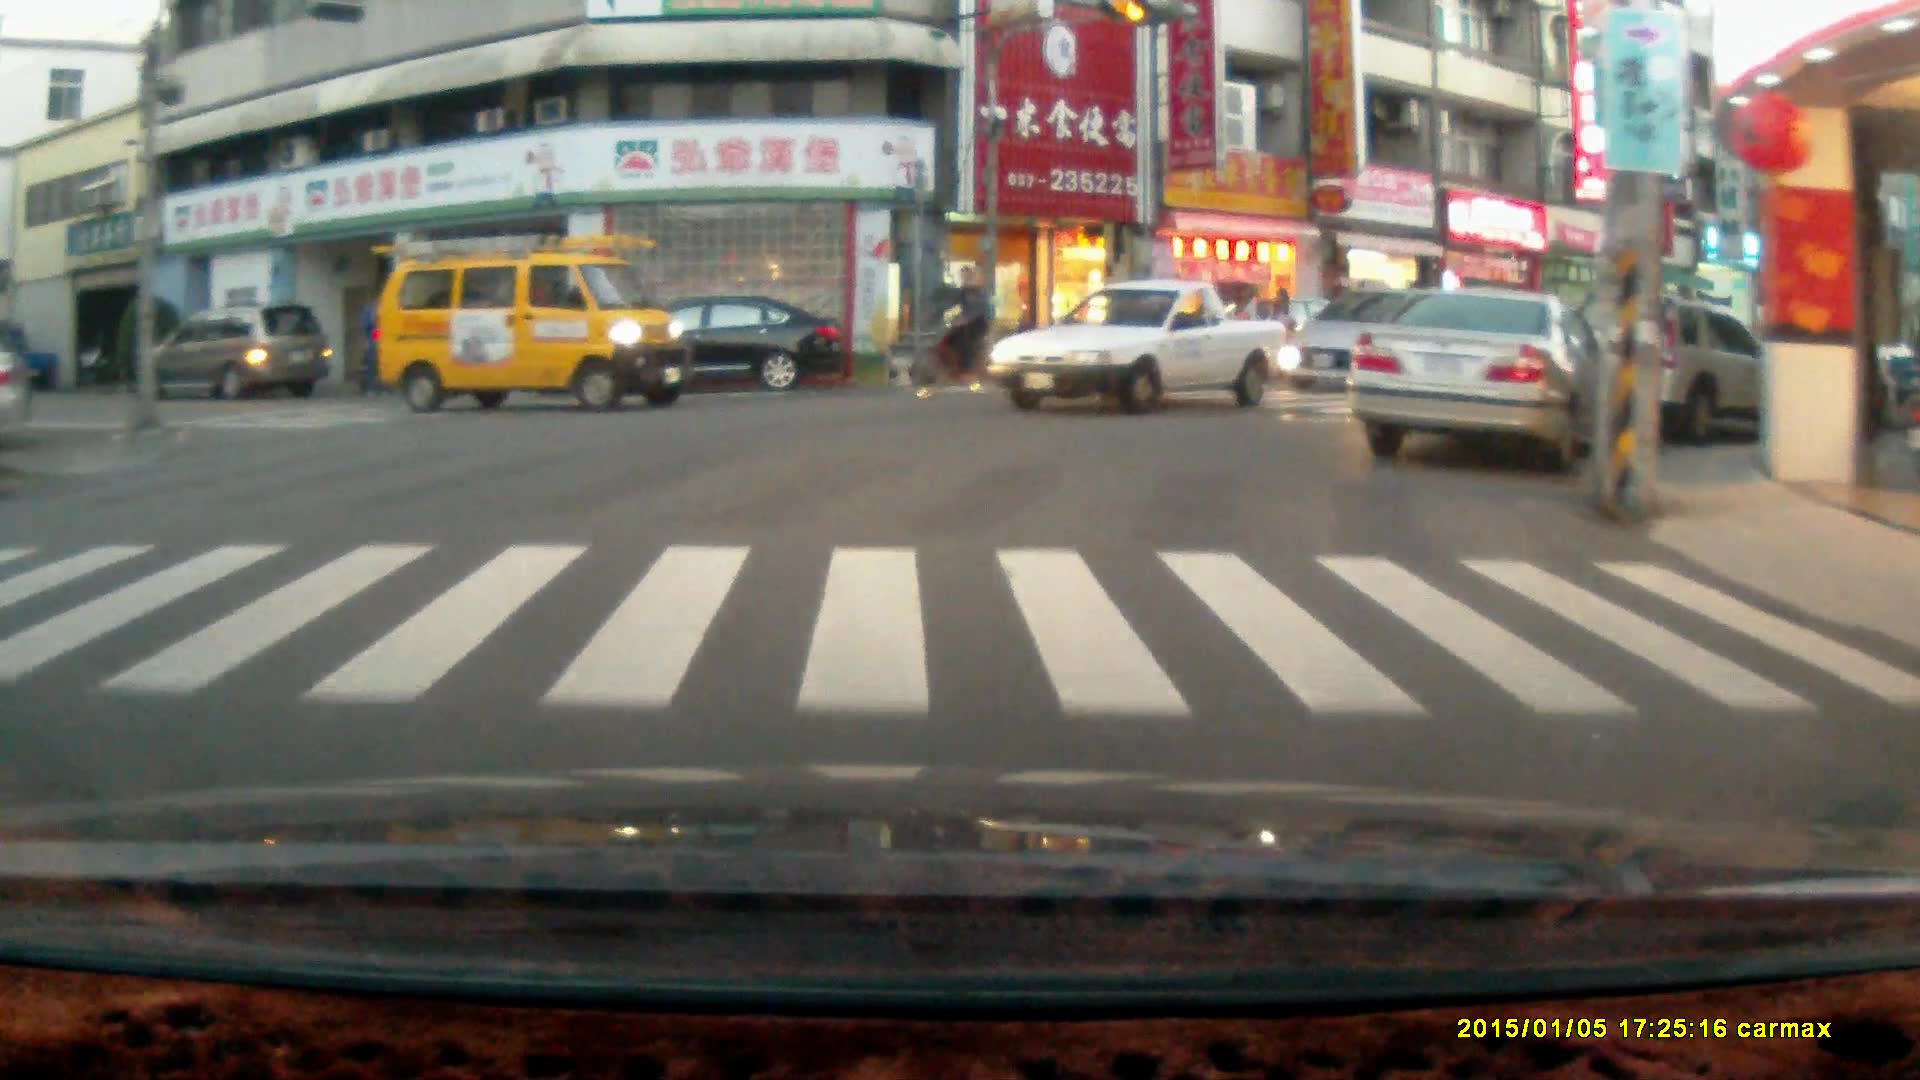pedestrian: (1230, 283, 1261, 372), (1269, 285, 1296, 379)
rider: (904, 260, 1003, 398)
vehicle: (371, 232, 695, 417), (1349, 285, 1594, 476), (986, 276, 1296, 420), (1544, 289, 1801, 450), (587, 296, 844, 399), (132, 301, 340, 411)
